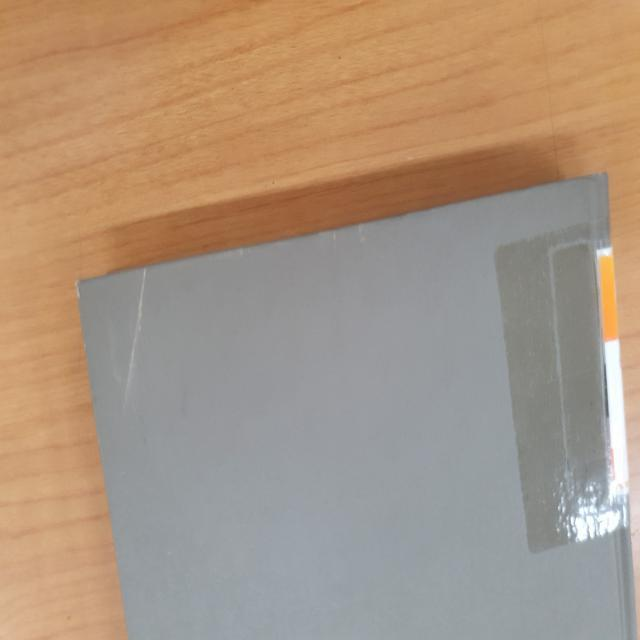Wornout: (573, 167, 609, 188), (72, 277, 87, 306)
